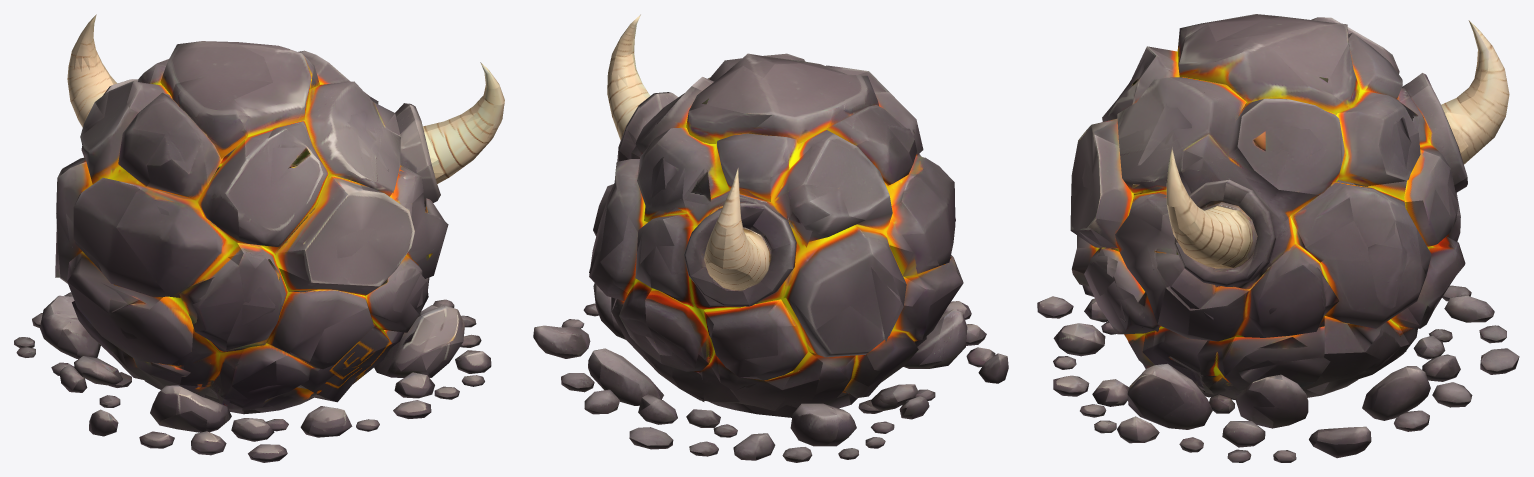
Rendered from ball_meshy.glb.
3 views of the same model, side by side, from view 1: azimuth 30°, elevation 25°; view 2: azimuth 150°, elevation 25°; view 3: azimuth 270°, elevation 25° (orthographic). The views are drawn at different scales.
Bounding box in the file's own units: 2 × 1.48 × 1.95.
1 material, 1 textured.
